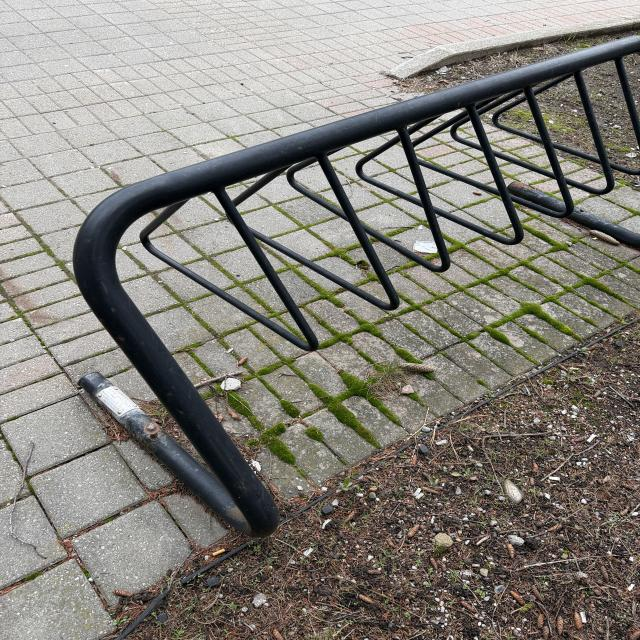Bicycle Rack: (69, 27, 640, 536)
